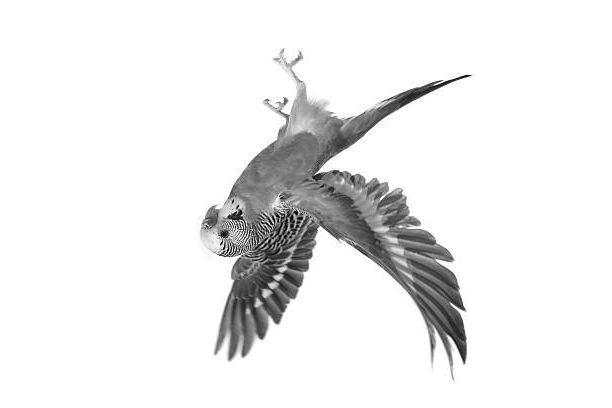Bird: (193, 40, 475, 382)
